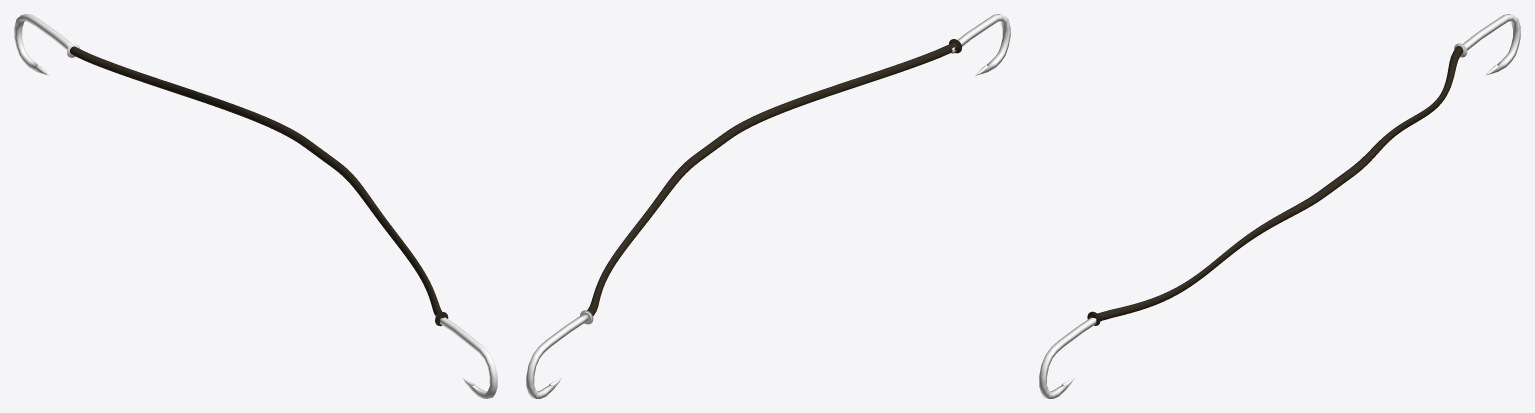
Rendered from Cuerda.glb.
3 views of the same model, side by side, from view 1: azimuth 30°, elevation 25°; view 2: azimuth 150°, elevation 25°; view 3: azimuth 330°, elevation 25° (orthographic).
Visible parts, largest first — view 1: Círculo, Cube.002, Cube.001; view 2: Círculo, Cube.002, Cube.001; view 3: Círculo, Cube.002, Cube.001.
Part boxes in pixels (box(x1,y1,x2,y2)): Círculo: box(70, 46, 448, 326); Cube.002: box(14, 14, 79, 75); Cube.001: box(435, 315, 497, 398); Círculo: box(587, 39, 961, 316); Cube.002: box(526, 310, 593, 398); Cube.001: box(950, 14, 1010, 75); Círculo: box(1087, 46, 1463, 325); Cube.002: box(1454, 14, 1520, 75); Cube.001: box(1039, 317, 1096, 398).
Size of the model in its own units: 11.62 by 10.82 by 134.
Materials: 2 (1 with a texture image).
